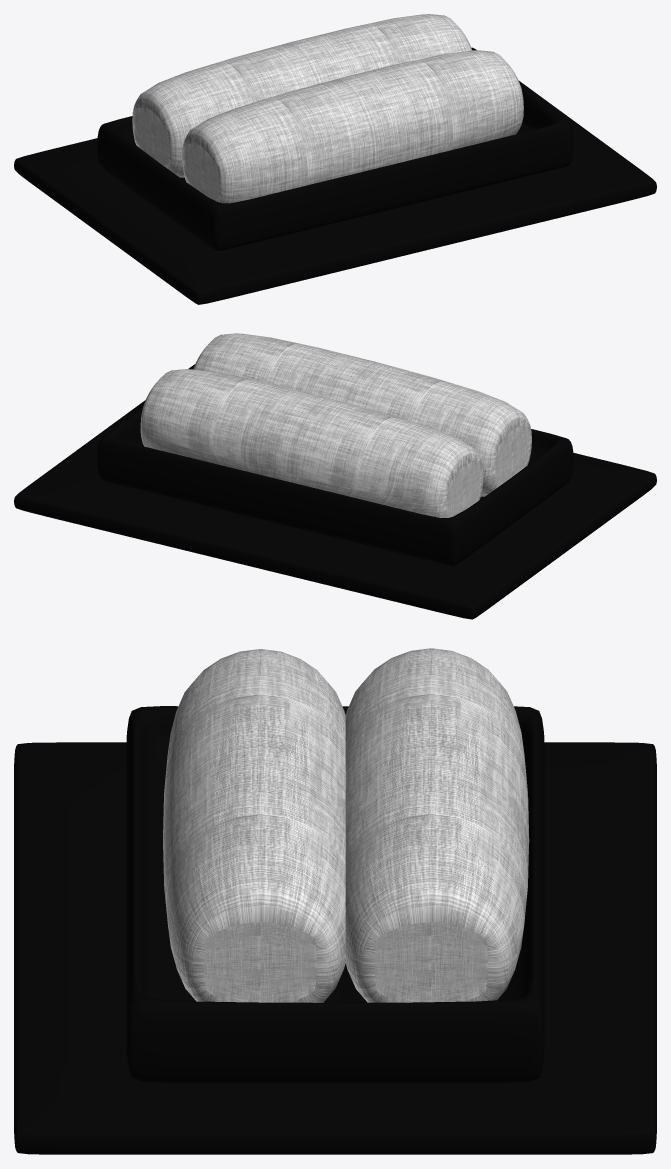
Rendered from earringdisplayed.fbx.
The picture shows the model from 3 angles, top to bottom: view 1: azimuth 30°, elevation 25°; view 2: azimuth 150°, elevation 25°; view 3: azimuth 270°, elevation 25°; orthographic projection. The views are drawn at different scales.
Parts seen in each view (by area): view 1: displayearring:pCube1, displayearring:pCylinder2, displayearring:pCube2, displayearring:pCylinder3; view 2: displayearring:pCube1, displayearring:pCylinder3, displayearring:pCube2, displayearring:pCylinder2; view 3: displayearring:pCube1, displayearring:pCylinder3, displayearring:pCylinder2, displayearring:pCube2.
Boxes of the visible parts, bbox=[...] form: displayearring:pCube1: bbox=[14, 47, 656, 304]; displayearring:pCylinder2: bbox=[182, 50, 523, 203]; displayearring:pCube2: bbox=[97, 87, 573, 250]; displayearring:pCylinder3: bbox=[132, 14, 471, 177]; displayearring:pCube1: bbox=[14, 364, 656, 619]; displayearring:pCylinder3: bbox=[140, 369, 483, 517]; displayearring:pCube2: bbox=[97, 407, 573, 565]; displayearring:pCylinder2: bbox=[193, 333, 531, 496]; displayearring:pCube1: bbox=[14, 742, 656, 1154]; displayearring:pCylinder3: bbox=[345, 648, 529, 1002]; displayearring:pCylinder2: bbox=[163, 649, 345, 1002]; displayearring:pCube2: bbox=[126, 706, 544, 1082].
Size of the model in its own units: 9.2 by 2.28 by 6.38.
